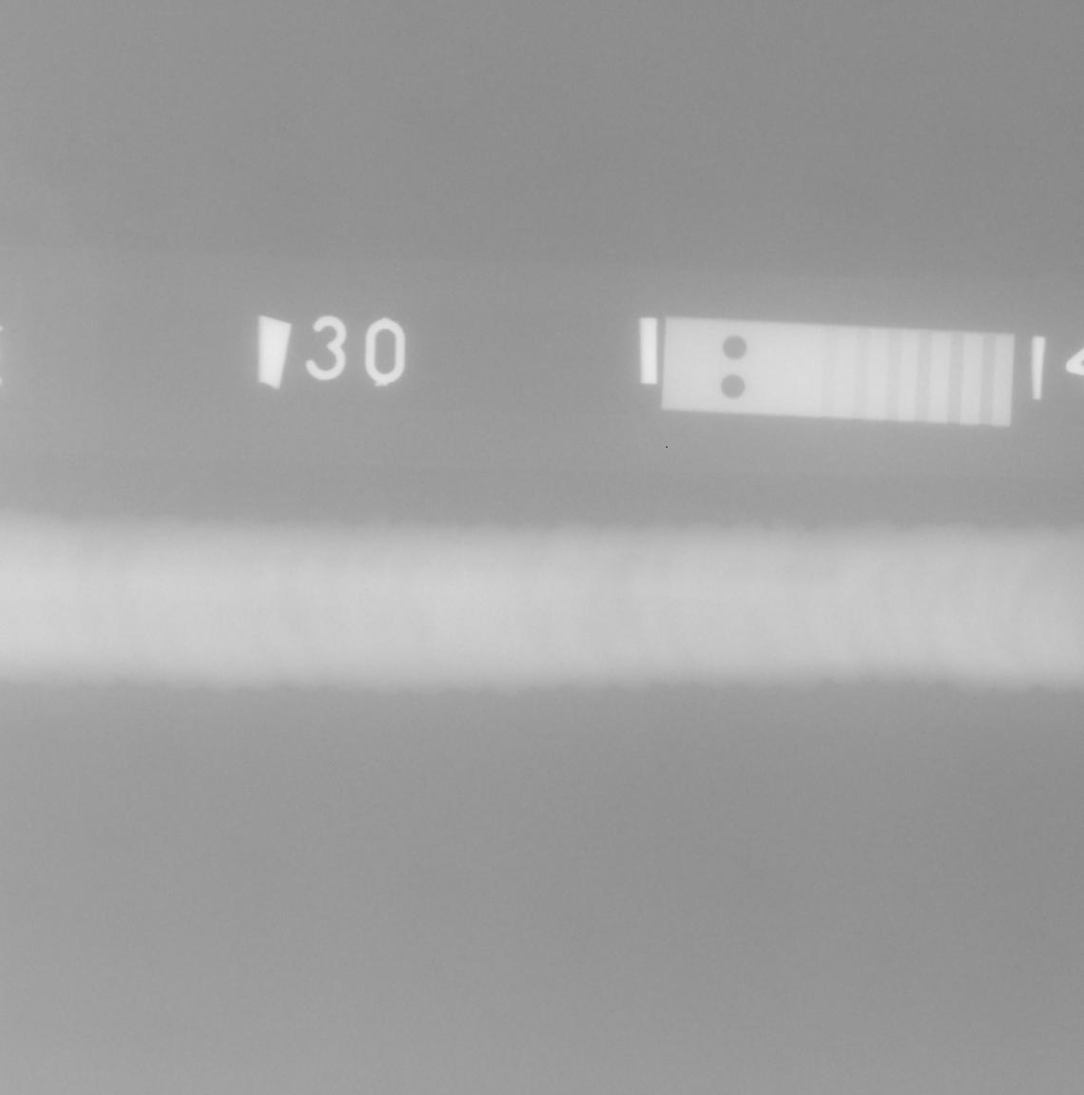Reference Standard 2: (661, 316, 1015, 427)
